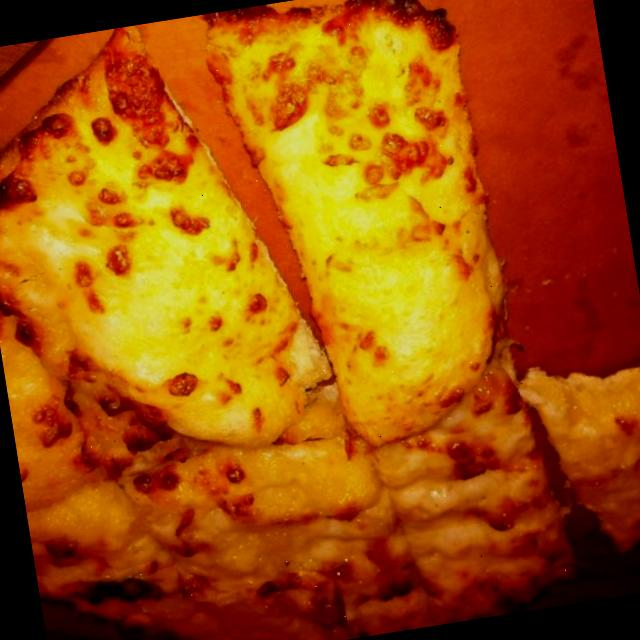cheese: (299, 138, 479, 419), (99, 239, 298, 459), (235, 432, 382, 540), (25, 435, 110, 552), (385, 461, 482, 537)
pizza: (0, 28, 573, 640), (209, 0, 503, 445), (520, 360, 640, 551)
